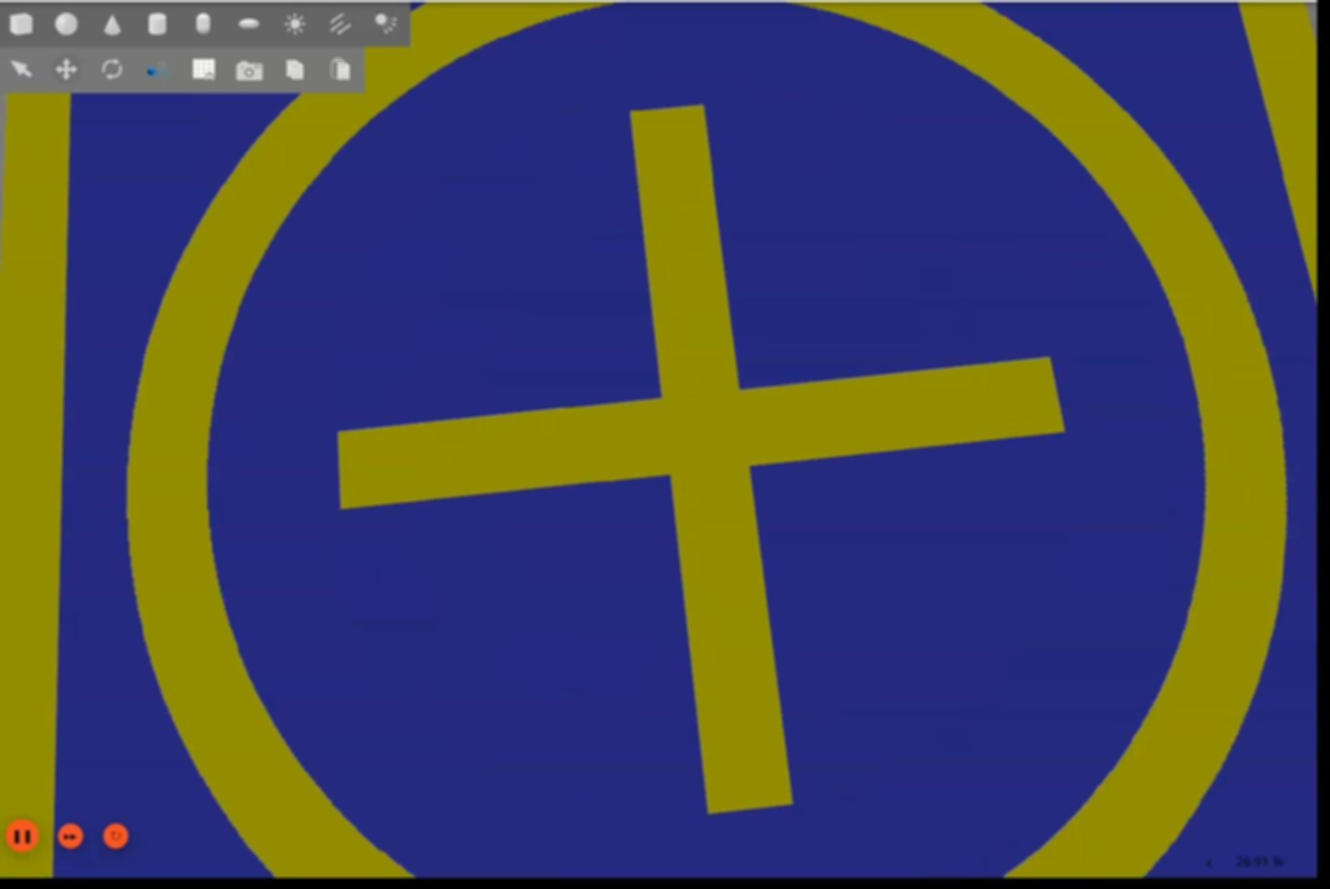small_base: (1, 1, 1316, 883)
